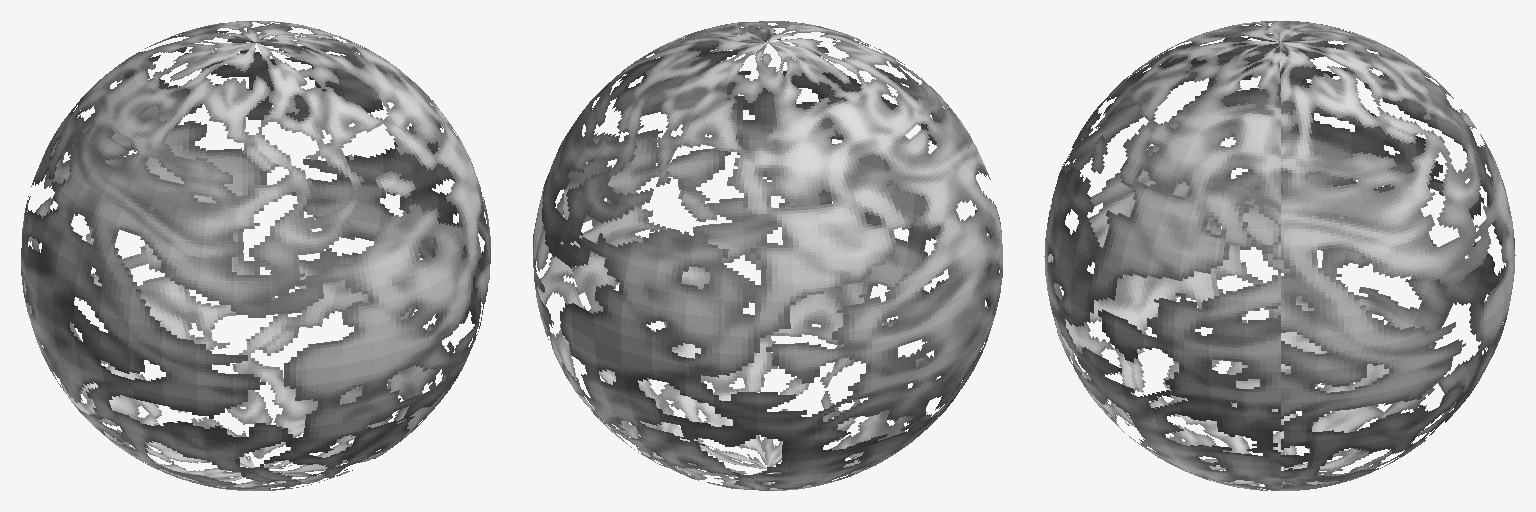
3 renders of one model, left to right at view 1: azimuth 30°, elevation 25°; view 2: azimuth 150°, elevation 25°; view 3: azimuth 270°, elevation 25°, orthographic.
Visible parts, largest first — view 1: mesh-0.001_meshId0_name.001; view 2: mesh-0.001_meshId0_name.001; view 3: mesh-0.001_meshId0_name.001.
Boxes of the visible parts, x1=… form: mesh-0.001_meshId0_name.001: x1=21, y1=21, x2=490, y2=490; mesh-0.001_meshId0_name.001: x1=533, y1=21, x2=1002, y2=490; mesh-0.001_meshId0_name.001: x1=1044, y1=21, x2=1515, y2=490.
Bounding box in the file's own units: 7899 × 7900 × 7899.
Materials: 1 (1 with a texture image).